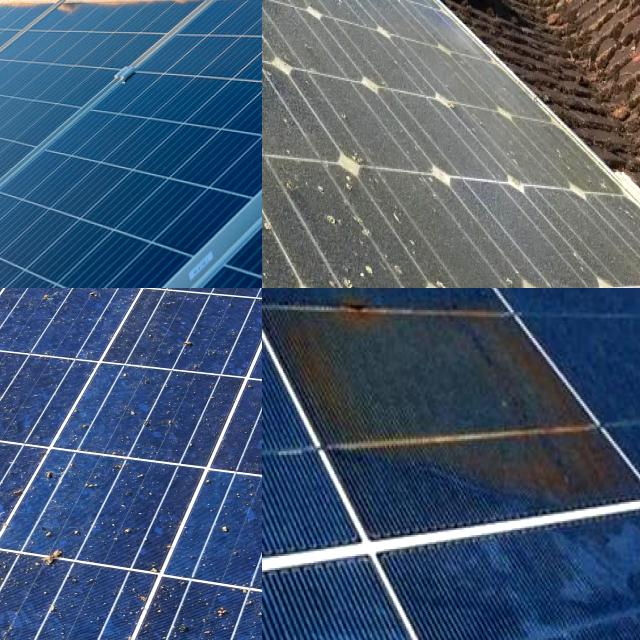bird: (13, 526, 87, 592), (111, 288, 224, 325), (0, 378, 44, 436)
dust: (282, 66, 410, 188), (356, 212, 533, 288), (426, 58, 490, 204), (542, 199, 640, 288), (262, 143, 318, 288)
panel: (0, 0, 261, 63), (0, 44, 82, 142), (0, 0, 91, 59), (0, 161, 50, 213), (0, 0, 66, 39)
shadow: (262, 288, 604, 520)
